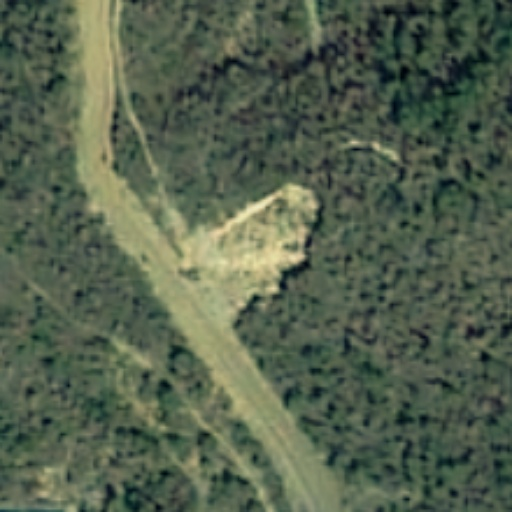landslide: (189, 181, 322, 305)
